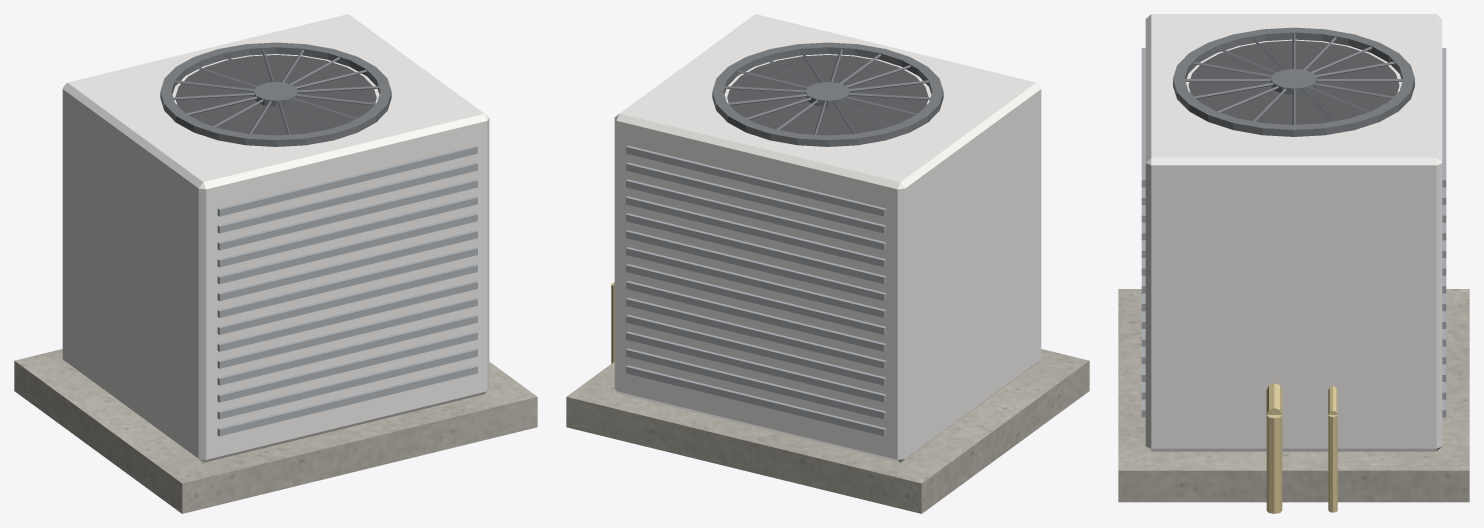
Rendered from ac_unit.glb.
The picture shows the model from 3 angles, left to right: view 1: azimuth 30°, elevation 25°; view 2: azimuth 150°, elevation 25°; view 3: azimuth 270°, elevation 25°; orthographic projection. The views are drawn at different scales.
Parts seen in each view (by area): view 1: ac_unit_enamel, ac_unit_steel, ac_unit_concrete, ac_unit_steel_d, ac_unit_dark; view 2: ac_unit_enamel, ac_unit_steel, ac_unit_concrete, ac_unit_steel_d, ac_unit_dark; view 3: ac_unit_enamel, ac_unit_concrete, ac_unit_steel_d, ac_unit_dark, ac_unit_steel, ac_unit_brass.
Part boxes in pixels (x1=…): ac_unit_enamel: x1=62, y1=14, x2=489, y2=462; ac_unit_steel: x1=217, y1=145, x2=477, y2=436; ac_unit_concrete: x1=14, y1=349, x2=537, y2=513; ac_unit_steel_d: x1=160, y1=42, x2=391, y2=146; ac_unit_dark: x1=175, y1=55, x2=376, y2=135; ac_unit_enamel: x1=614, y1=14, x2=1041, y2=462; ac_unit_steel: x1=626, y1=145, x2=886, y2=436; ac_unit_concrete: x1=566, y1=349, x2=1089, y2=513; ac_unit_steel_d: x1=712, y1=42, x2=943, y2=146; ac_unit_dark: x1=727, y1=55, x2=928, y2=135; ac_unit_enamel: x1=1145, y1=14, x2=1442, y2=451; ac_unit_concrete: x1=1118, y1=289, x2=1469, y2=502; ac_unit_steel_d: x1=1173, y1=27, x2=1414, y2=136; ac_unit_dark: x1=1188, y1=40, x2=1399, y2=124; ac_unit_steel: x1=1141, y1=48, x2=1446, y2=417; ac_unit_brass: x1=1266, y1=383, x2=1337, y2=513.
Bounding box in the file's own units: 1.17 × 0.94 × 0.9.
Materials: 6 (1 with a texture image).
